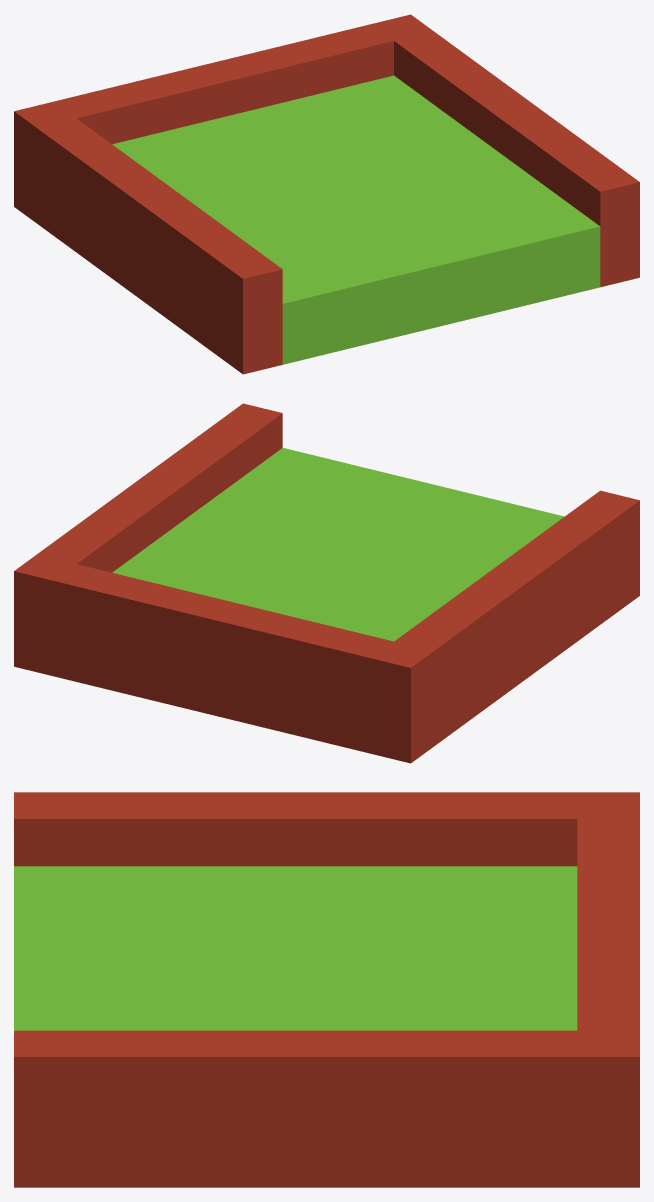
Rendered from DeadEnd.FBX.
3 renders of one model, top to bottom at view 1: azimuth 30°, elevation 25°; view 2: azimuth 150°, elevation 25°; view 3: azimuth 270°, elevation 25°, orthographic. The views are drawn at different scales.
Parts seen in each view (by area): view 1: End_01, Walls; view 2: Walls, End_01; view 3: Walls, End_01.
Boxes of the visible parts, x1,y1,x2,y2 form: End_01: (112,75,600,364); Walls: (14,14,639,374); Walls: (14,403,639,763); End_01: (112,448,564,641); Walls: (14,792,639,1187); End_01: (14,866,577,1030).
Bounding box in the file's own units: 0.9999 × 0.9999 × 0.23.
